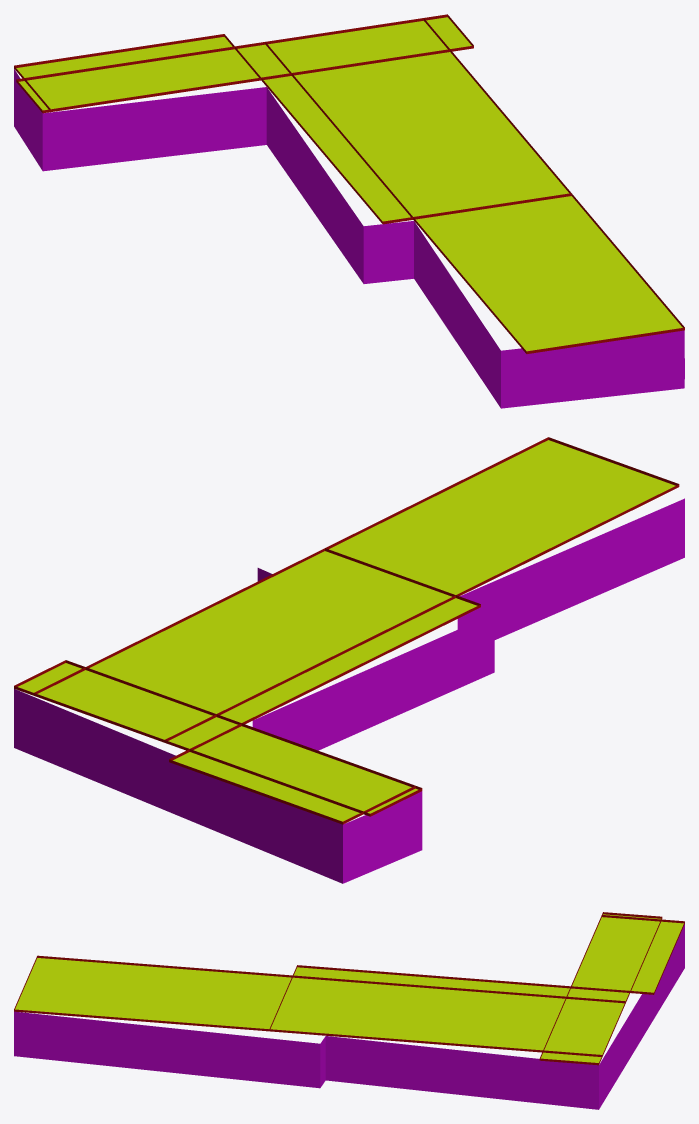
File: ssv_18.glb
3 views of the same model, one above another, from view 1: azimuth 30°, elevation 25°; view 2: azimuth 150°, elevation 25°; view 3: azimuth 270°, elevation 25° (orthographic). The views are drawn at different scales.
Visible parts, largest first — view 1: ssv_18; view 2: ssv_18; view 3: ssv_18.
Boxes of the visible parts, x1,y1,x2,y2 form: ssv_18: (14,14,684,408); ssv_18: (14,437,684,883); ssv_18: (14,912,684,1109).
Size of the model in its own units: 51.61 by 7.45 by 96.9.
